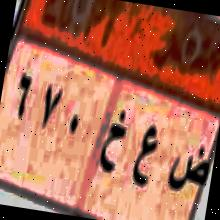0: (64, 105, 82, 140)
6: (10, 63, 36, 131)
7: (36, 78, 64, 138)
ain: (127, 111, 162, 199)
daad: (164, 125, 215, 207)
khaa: (94, 100, 130, 192)
